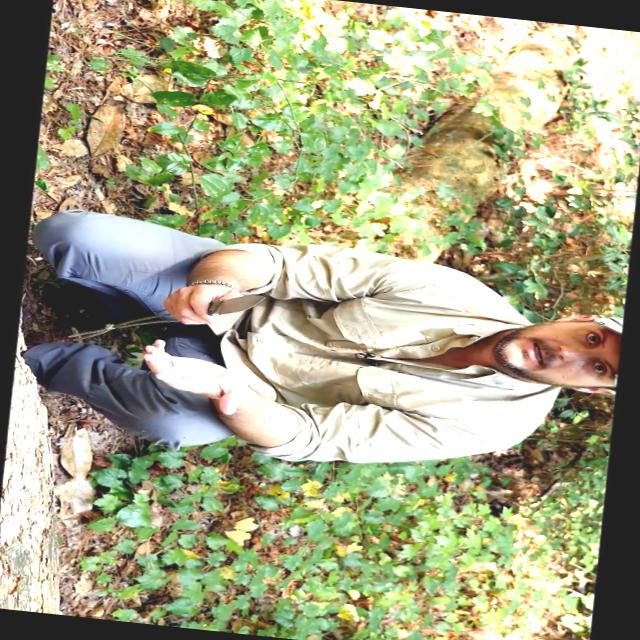knife: (158, 280, 273, 334)
